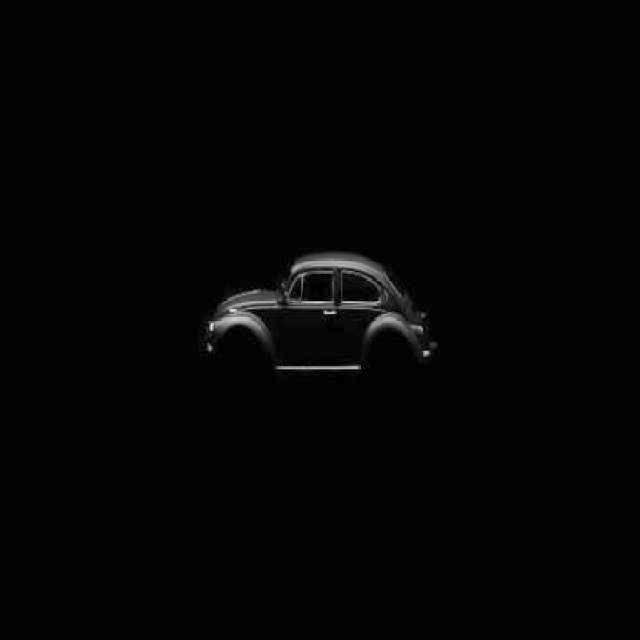car: (204, 254, 439, 391)
